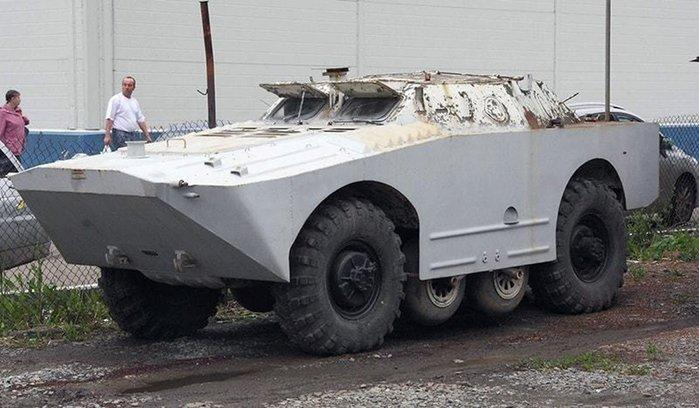MIL_IFV: (11, 69, 664, 356)
